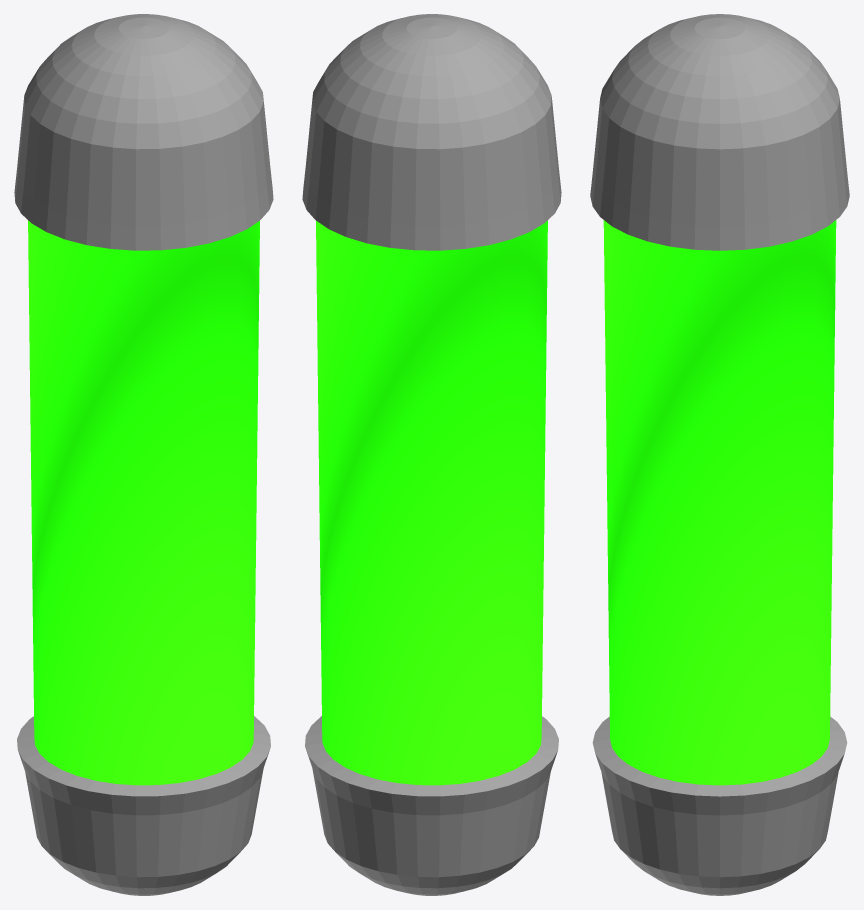
Rendered from secret_formula.fbx.
3 views of the same model, side by side, from view 1: azimuth 30°, elevation 25°; view 2: azimuth 150°, elevation 25°; view 3: azimuth 270°, elevation 25° (orthographic).
Parts seen in each view (by area): view 1: Sphere; view 2: Sphere; view 3: Sphere.
Part boxes in pixels (left/top/right/bottom): Sphere: left=14, top=14, right=273, bottom=895; Sphere: left=302, top=14, right=561, bottom=895; Sphere: left=590, top=14, right=849, bottom=895.
Size of the model in its own units: 14.71 by 53.64 by 14.71.
